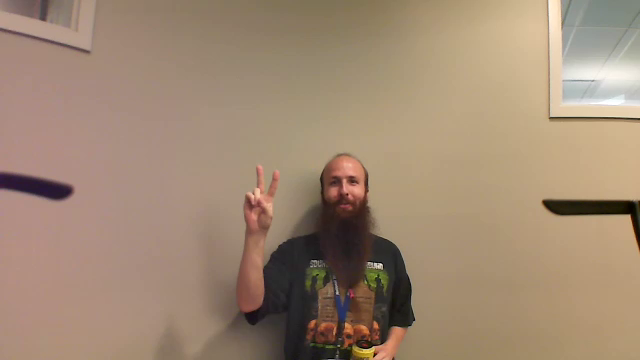peace: (235, 157, 298, 235)
